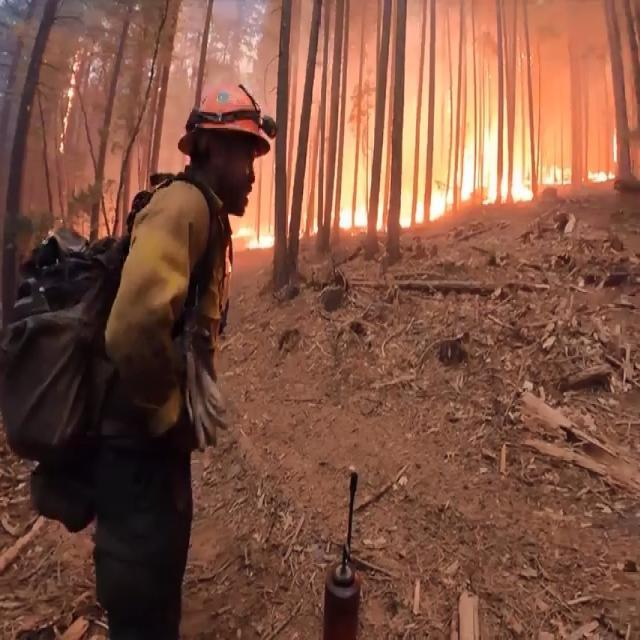Fire: (238, 122, 625, 246)
